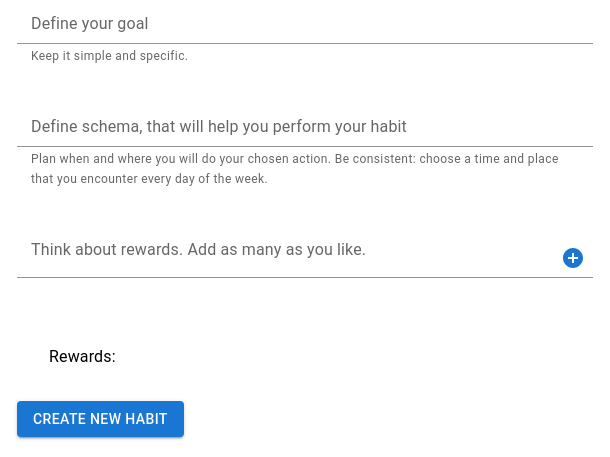
Test case: validates all of the required fields in the form
The width and height of the screenshot is (610, 457).
What coordinates should you click on to do the following:
click the button with test id "create-habit"
I would click on:
 (100, 419)
Its box is [17,401,184,437].
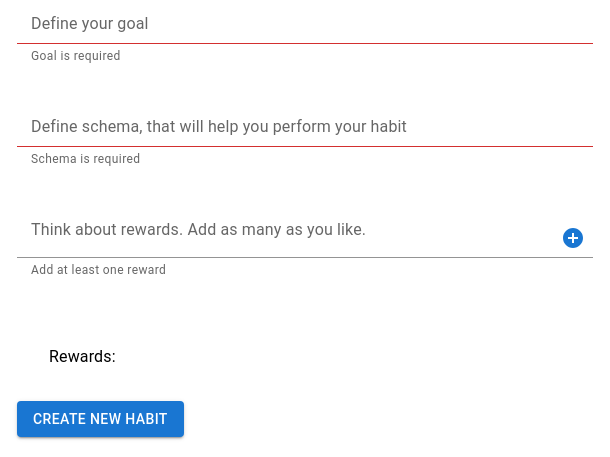
Expected: the text "Goal is required" is shown, [31,49,121,63]
Expected: the text "Schema is required" is shown, [31,152,140,166]
Expected: the text "Add at least one reward" is shown, [31,263,166,277]
